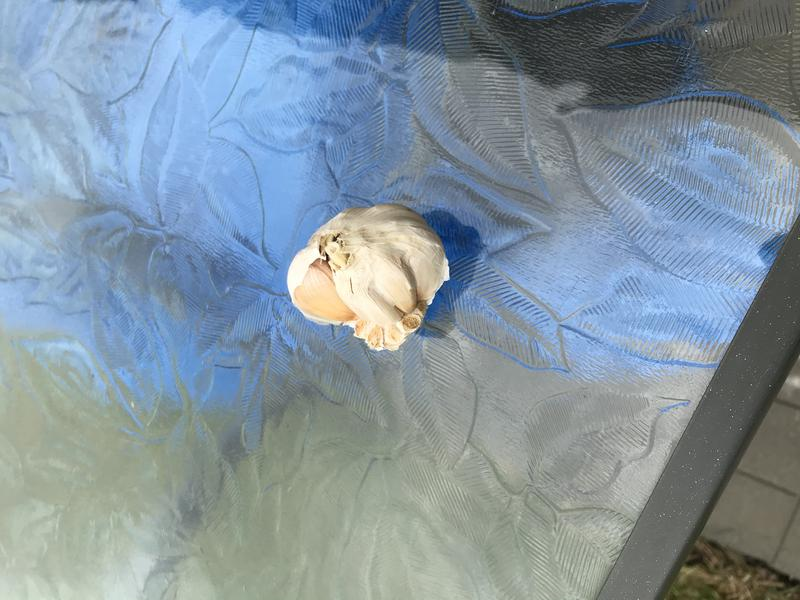garlic: (278, 195, 456, 359)
